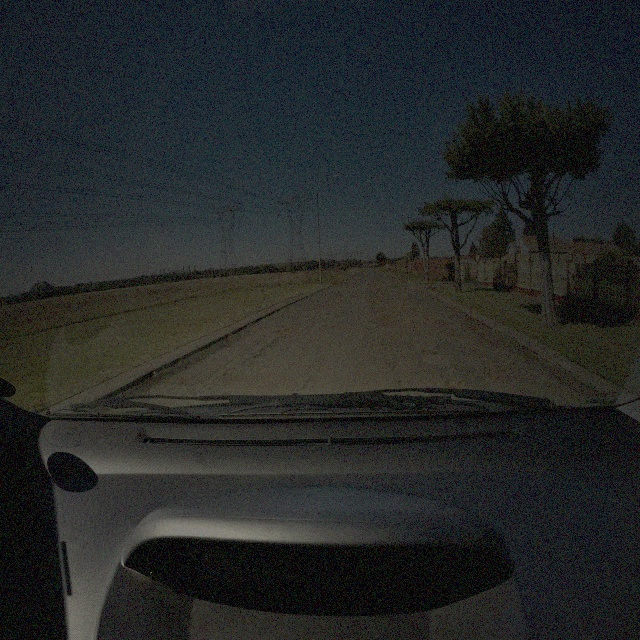pothole: (482, 362, 508, 383), (445, 376, 470, 390), (257, 342, 273, 357), (278, 323, 294, 335), (411, 321, 424, 328), (404, 309, 417, 316), (398, 379, 408, 388), (396, 320, 405, 328), (384, 313, 392, 320)
